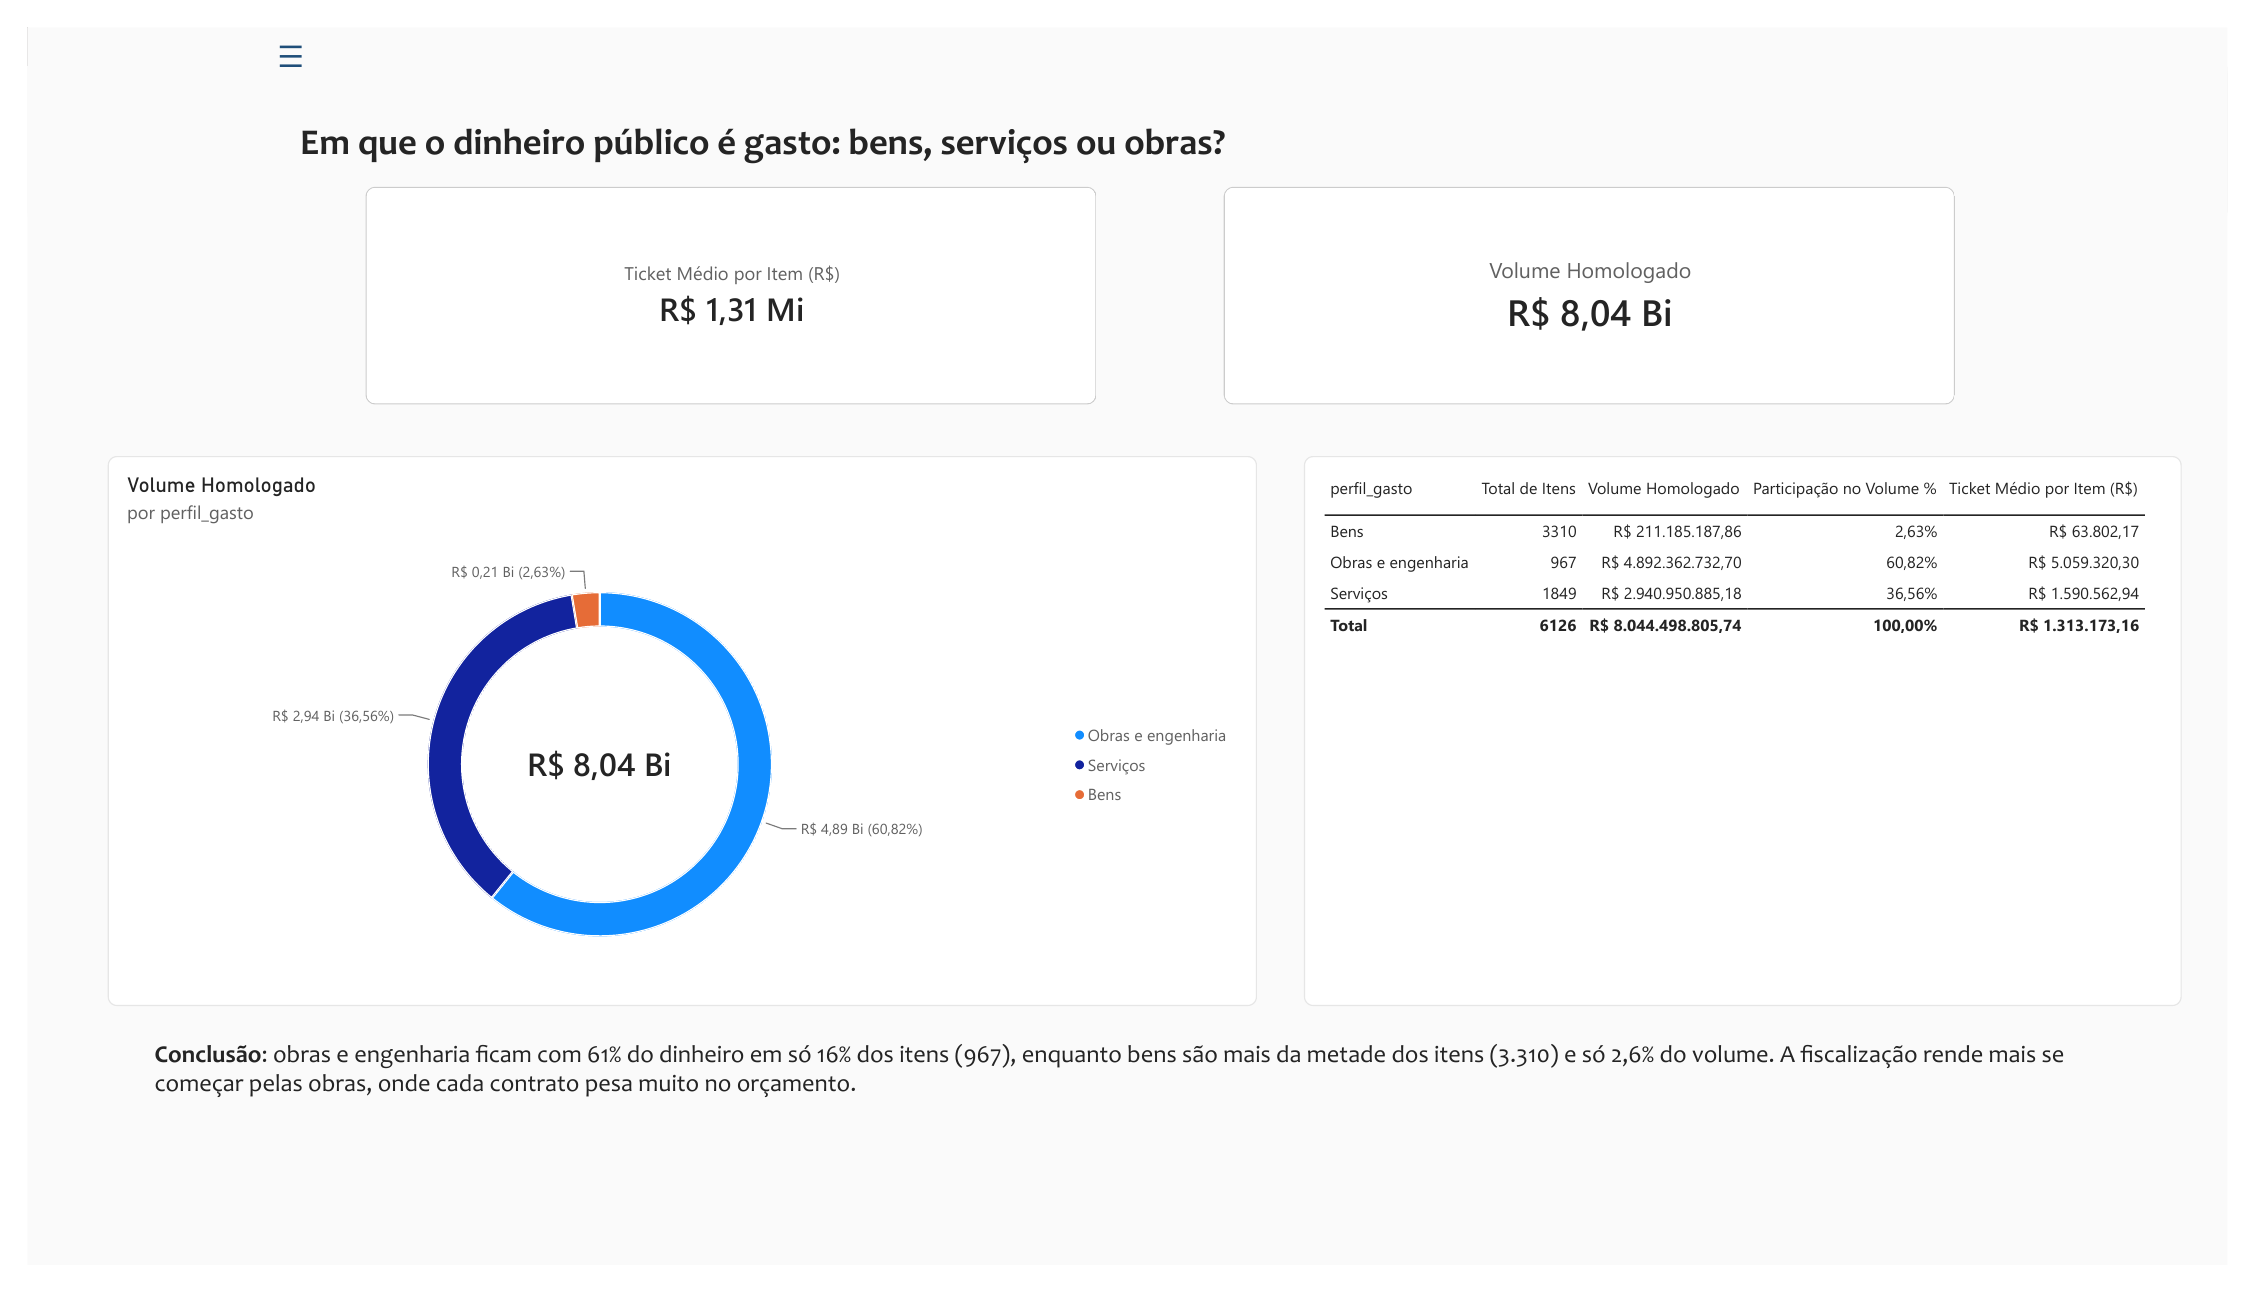

What the dashboard file says about the page in this screenshot:
{"tool":"powerbi","page":{"name":"P6 Perfil","canvas":[1920,1080],"ordinal":5},"visuals":[{"type":"textbox","box":[238.3,80.6,992.6,65.1],"z":0},{"type":"cardVisual","fields":{"Data":["Medidas.Ticket Médio por Item (R$)"]},"box":[294.9,138.9,637.7,190.3],"z":1000},{"type":"cardVisual","fields":{"Data":["Medidas.Volume Homologado"]},"box":[1044,138.9,637.7,190.3],"z":2000},{"type":"textbox","box":[111.4,882.9,1695.4,101.1],"z":3000},{"type":"tableEx","fields":{"Values":["fato_item_contratado.perfil_gasto","Medidas.Total de Itens","Medidas.Volume Homologado","Medidas.Participação no Volume %","Medidas.Ticket Médio por Item (R$)"]},"box":[1114,374,766,480],"z":4000},{"type":"donutChart","fields":{"Category":["fato_item_contratado.perfil_gasto"],"Y":["Medidas.Volume Homologado"]},"box":[70,374,1003,480],"z":5000},{"type":"actionButton","title":"Botao abrir","box":[200.6,0,58.3,39.4],"z":6000}]}

Visuals, with their boxes in screenshot pixels (x1, y1, x2, y2), scaled from the page's 1920x1080 canvas onto the 2255x1293 screenshot:
textbox: crop(280, 96, 1446, 174)
cardVisual - Medidas.Ticket Médio por Item (R$): crop(346, 166, 1095, 394)
cardVisual - Medidas.Volume Homologado: crop(1226, 166, 1975, 394)
textbox: crop(131, 1057, 2122, 1178)
tableEx - fato_item_contratado.perfil_gasto x Medidas.Total de Itens: crop(1308, 448, 2208, 1022)
donutChart - fato_item_contratado.perfil_gasto x Medidas.Volume Homologado: crop(82, 448, 1260, 1022)
"Botao abrir" actionButton: crop(236, 0, 304, 47)
